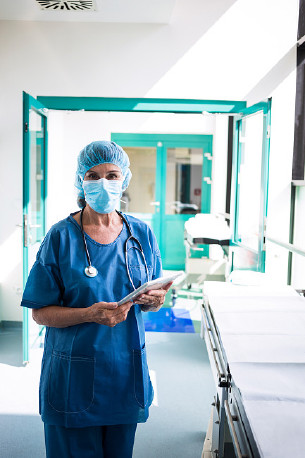face_mask: (82, 154, 122, 215)
